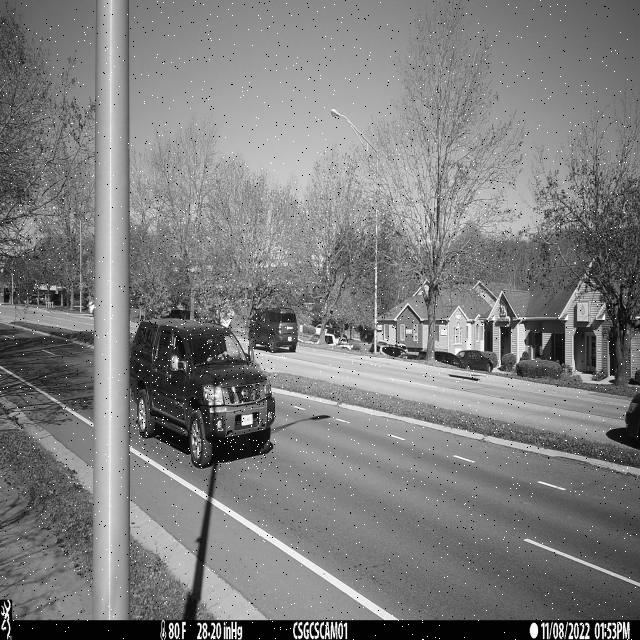Pickup: (129, 317, 276, 470)
